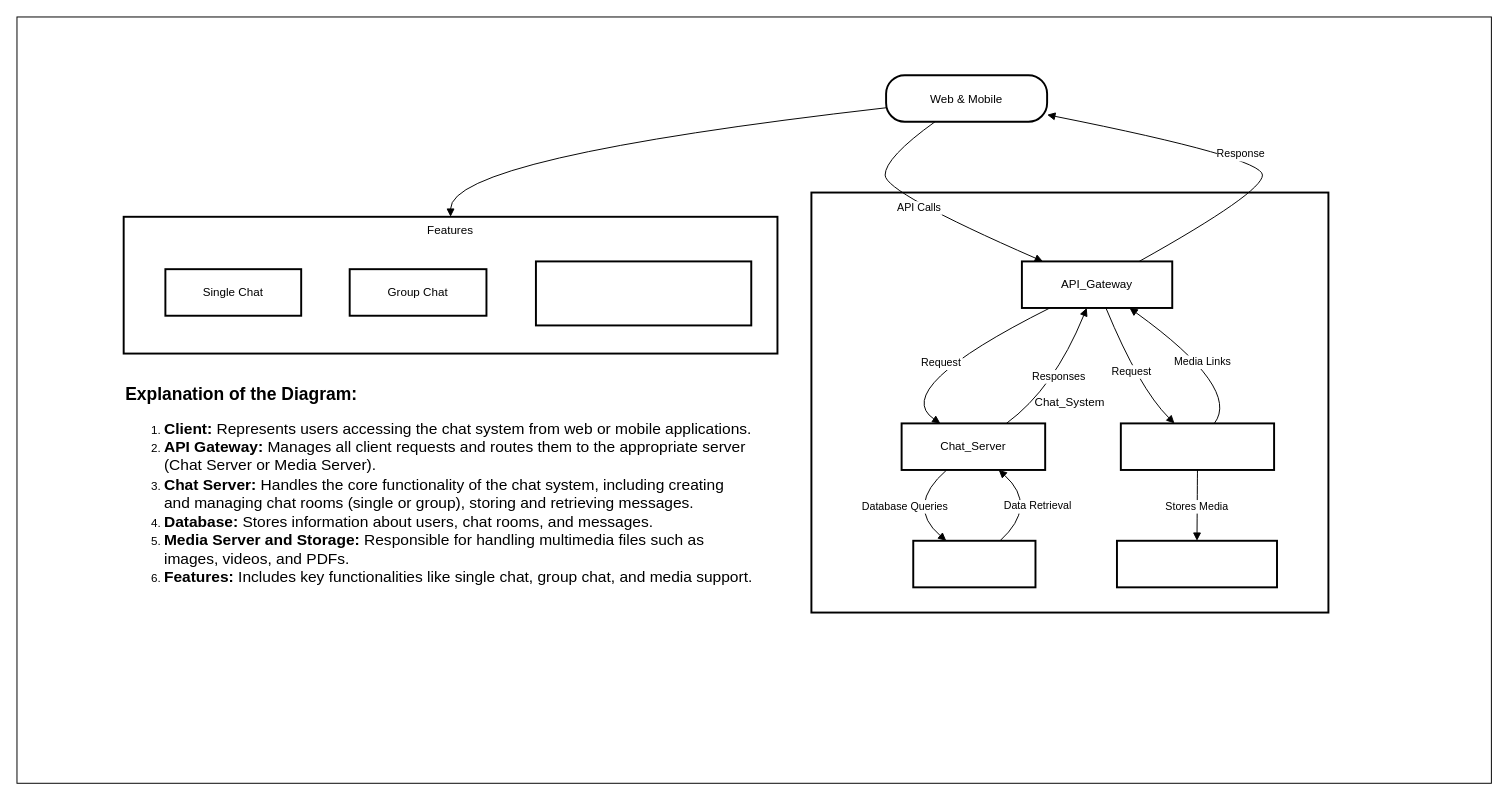
Some shapes in this 1508 by 800 pixel diagram are drawn without their labels. The shapes that lost their labels are listed below. From the top down, each one's centre as x and y in pixels, then its label:
At point (643, 293): "Media Support (Image, Video, PDF)".
At point (1197, 446): "Media_Server".
At point (974, 563): "Database".
At point (1196, 563): "Media_Storage".
